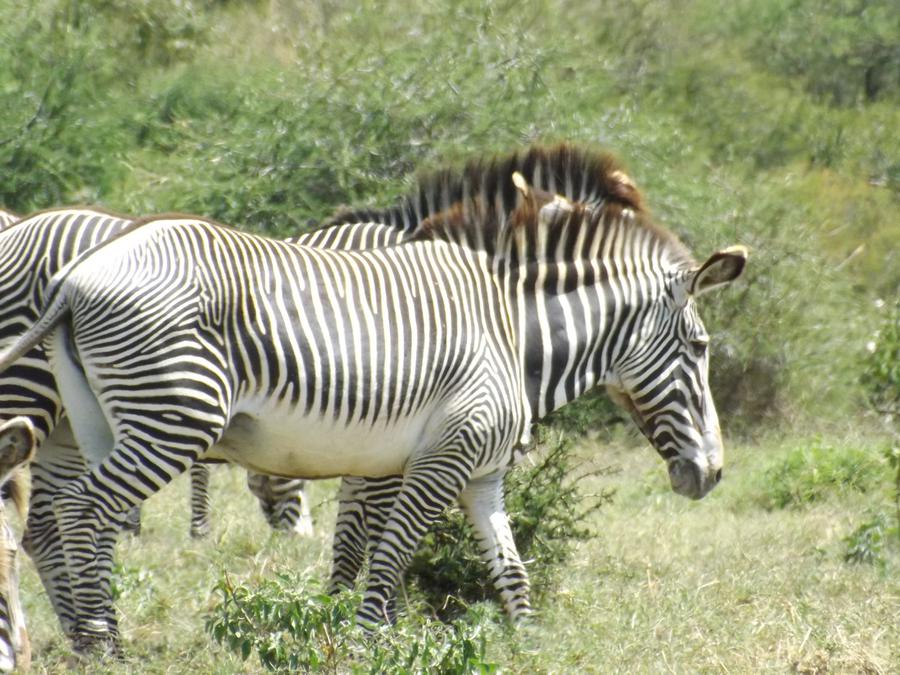zebra_grevys: (48, 195, 500, 474)
